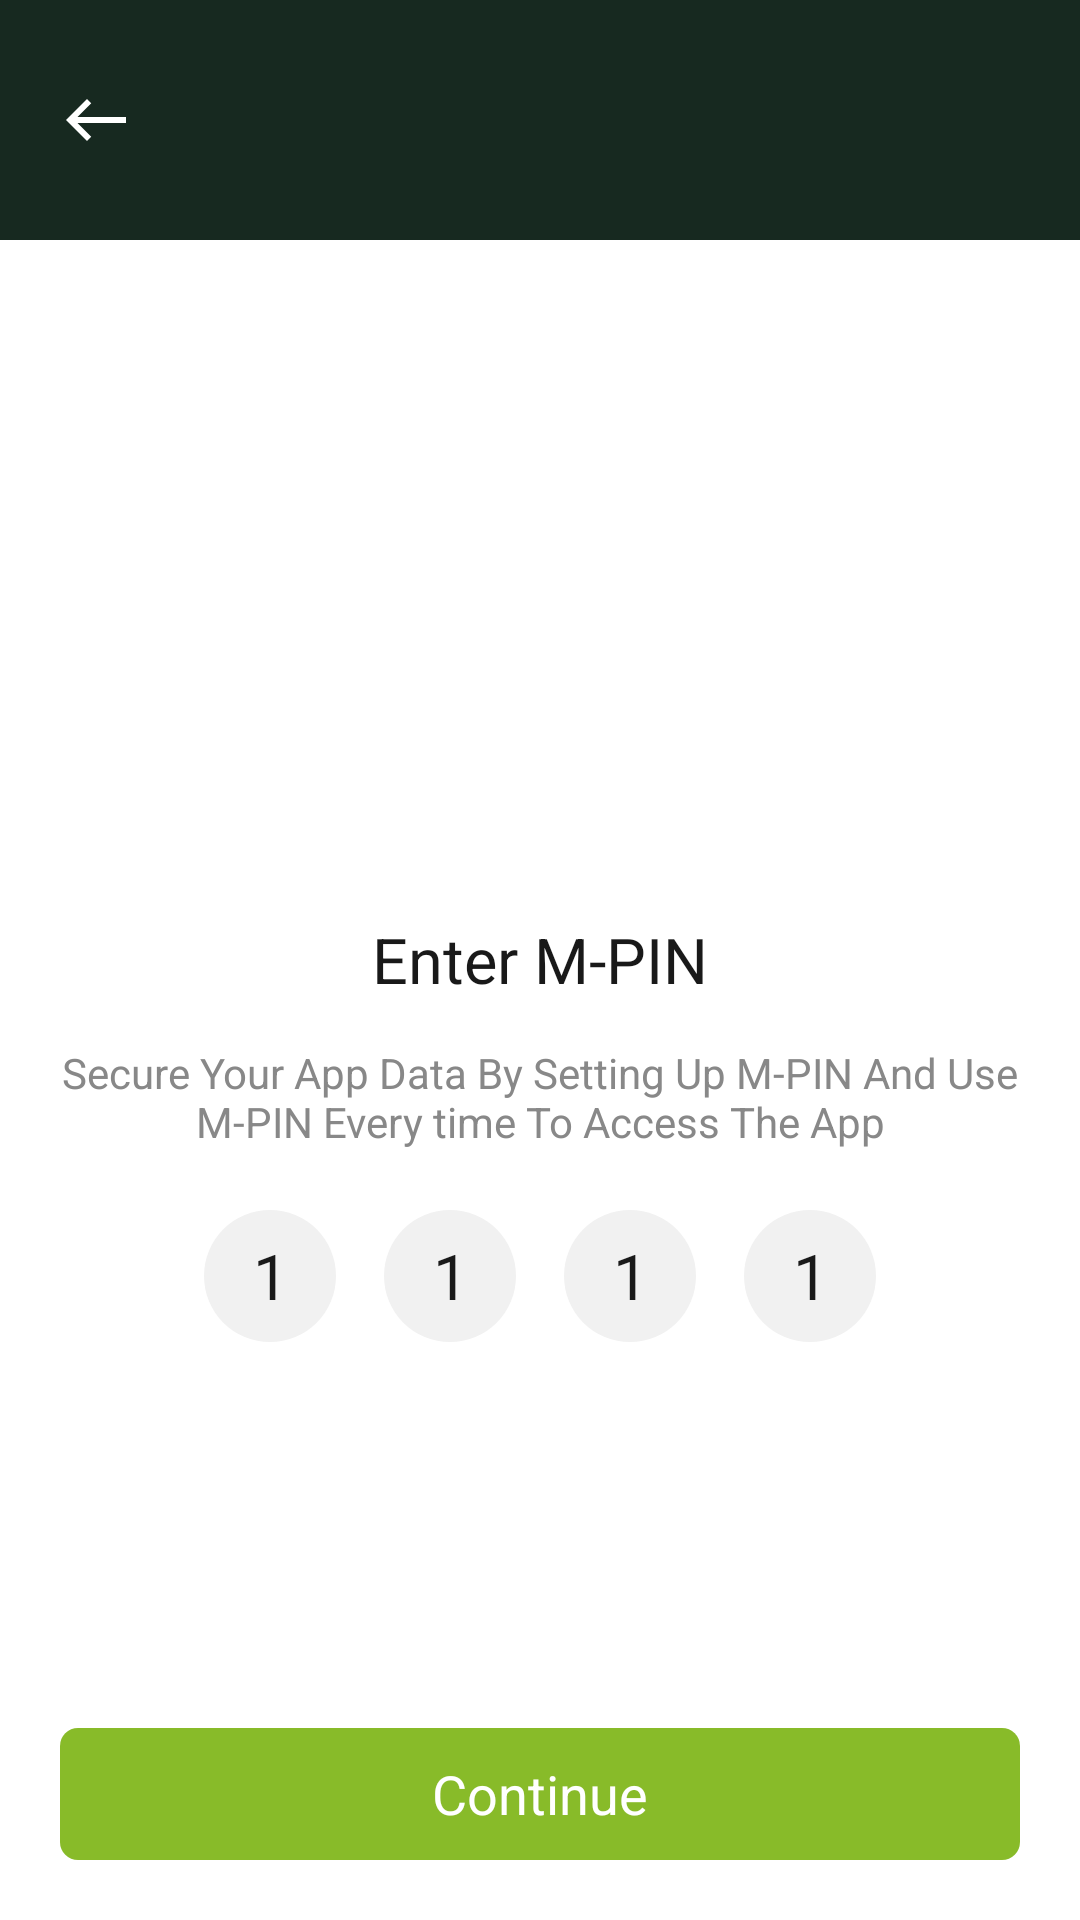

Where icons sit on this 1080*1920 app screen, as BBox(x1, y1, x2, y2):
arrow back: BBox(66, 99, 126, 141)
